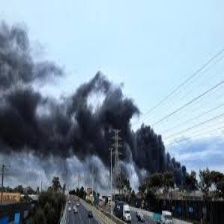smoke: (4, 40, 193, 181)
